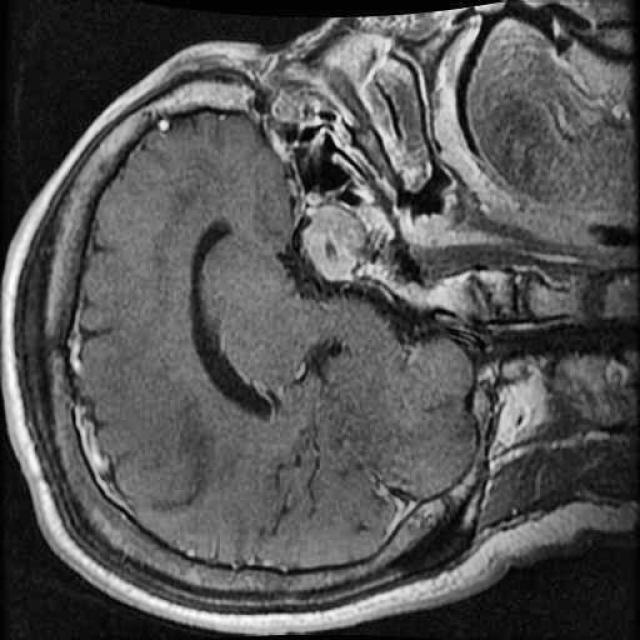Tumor: (291, 195, 386, 290)
